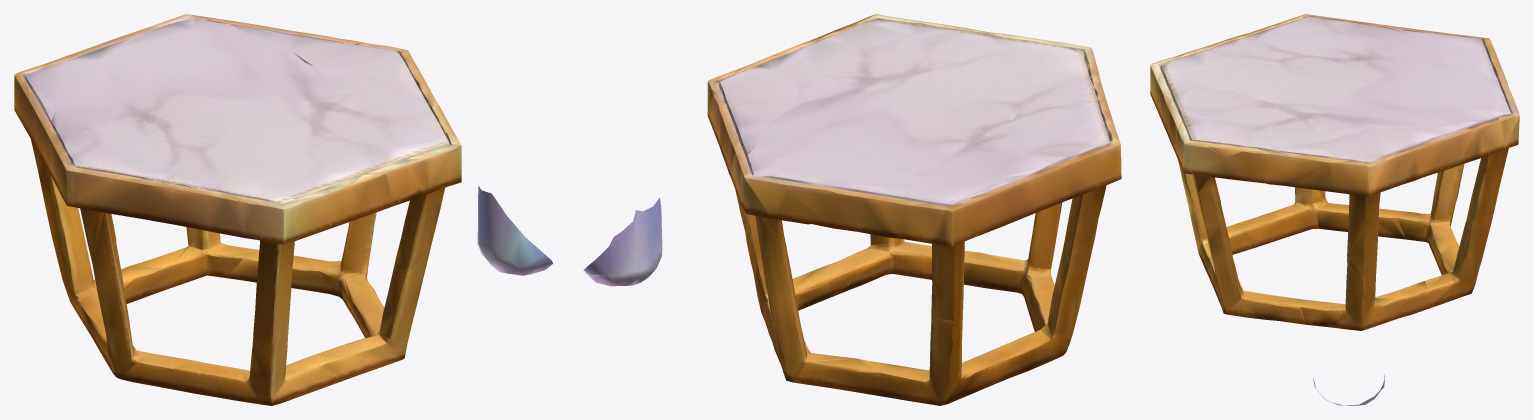
File: table23.glb
3 renders of one model, left to right at view 1: azimuth 30°, elevation 25°; view 2: azimuth 150°, elevation 25°; view 3: azimuth 270°, elevation 25°, orthographic. The views are drawn at different scales.
Size of the model in its own units: 0.3057 by 0.1353 by 0.2336.
Materials: 1 (1 with a texture image).
